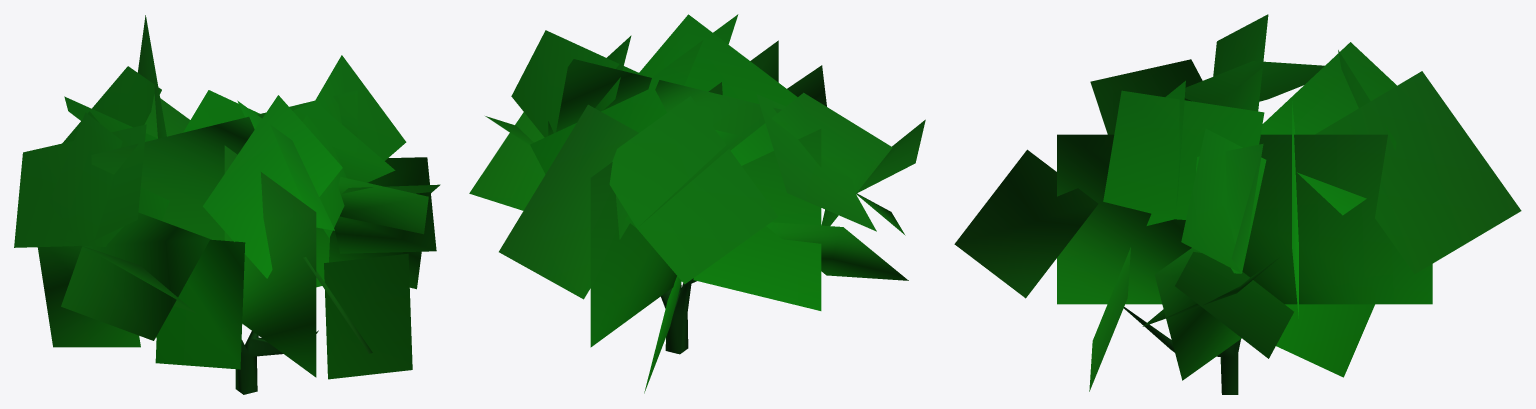
File: env_nature_foliage_boxwood_lod1.fbx
3 renders of one model, left to right at view 1: azimuth 30°, elevation 25°; view 2: azimuth 150°, elevation 25°; view 3: azimuth 270°, elevation 25°, orthographic. The views are drawn at different scales.
Parts seen in each view (by area): view 1: env_nature_foliage_boxwood_lod1; view 2: env_nature_foliage_boxwood_lod1; view 3: env_nature_foliage_boxwood_lod1.
Part boxes in pixels (<box>): env_nature_foliage_boxwood_lod1: <box>14,15,440,394</box>; env_nature_foliage_boxwood_lod1: <box>469,14,925,393</box>; env_nature_foliage_boxwood_lod1: <box>954,14,1521,394</box>.
Size of the model in its own units: 12.78 by 9.5 by 15.4.
